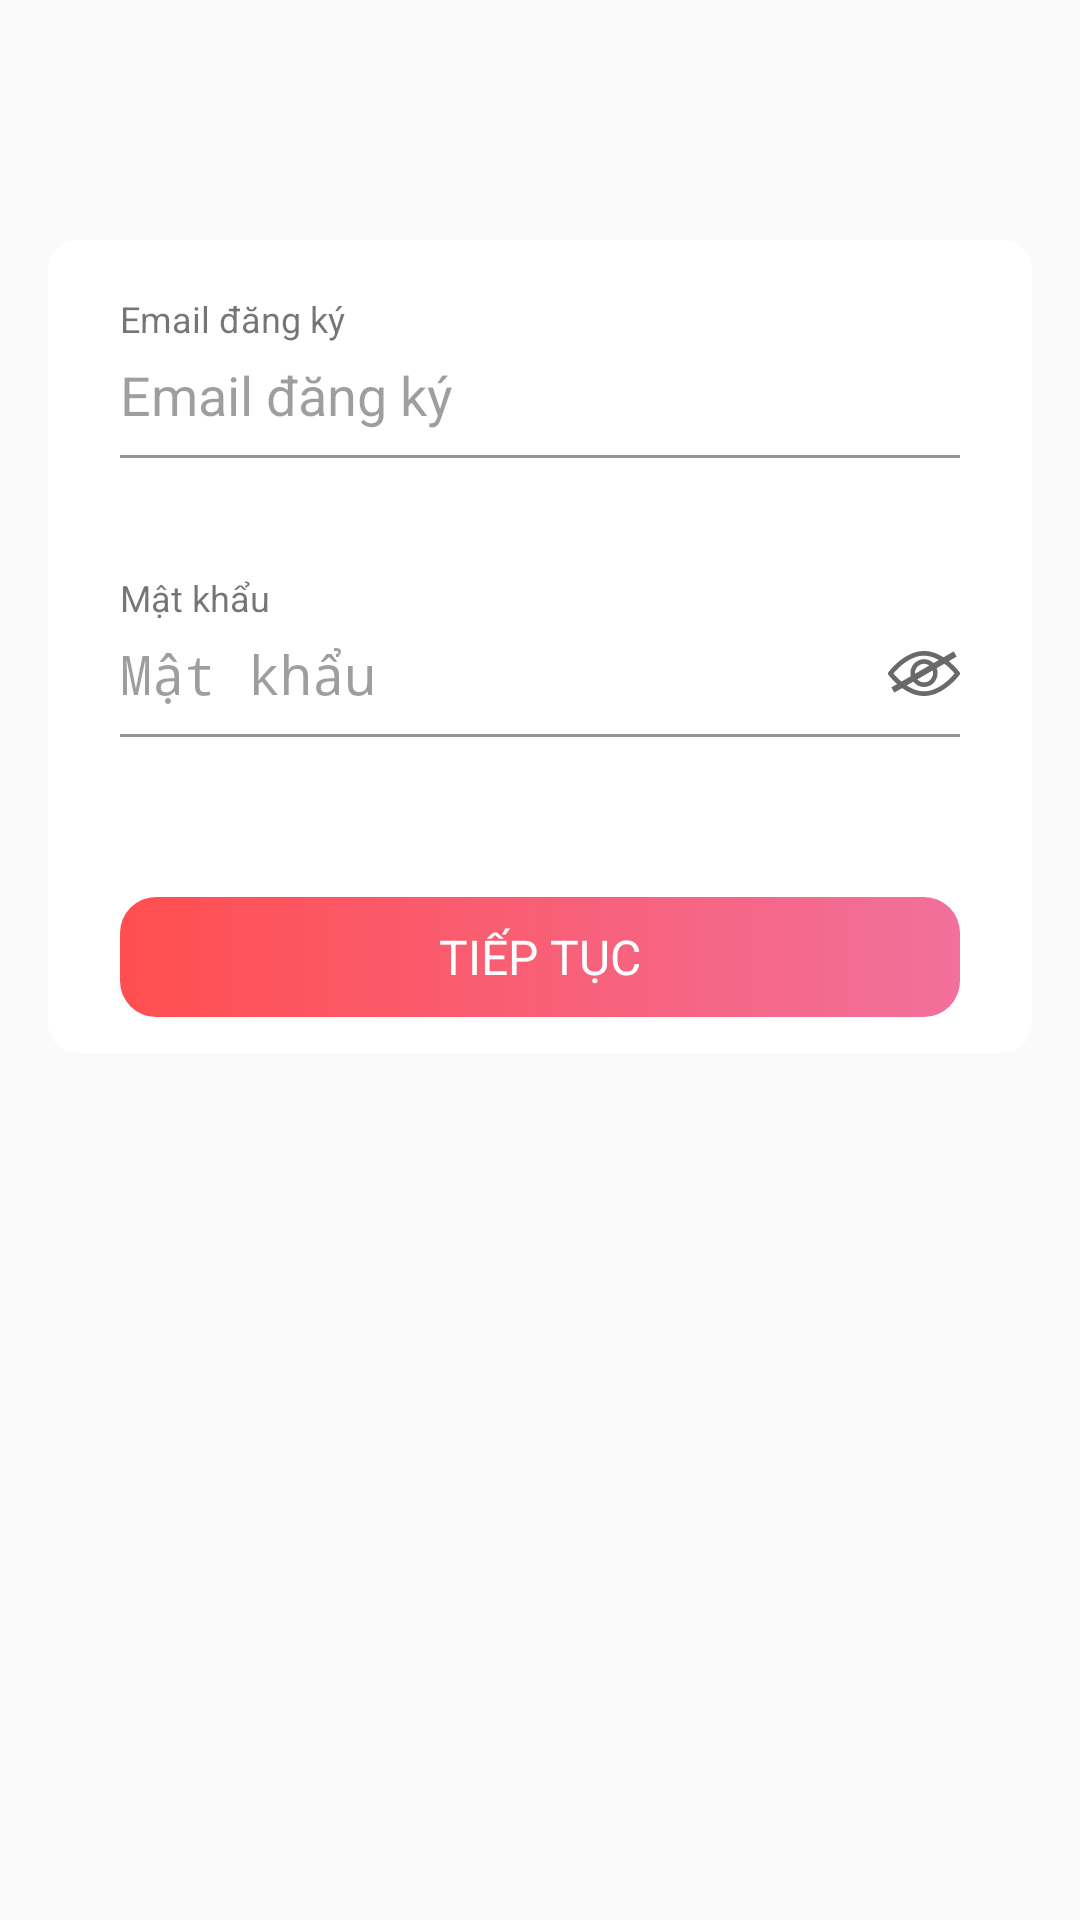

Screen size 1080px×1920px. Icon name, then its box in pixels as bbox=(x1, y1, x2, y2):
check show pass: bbox=(888, 651, 960, 696)
